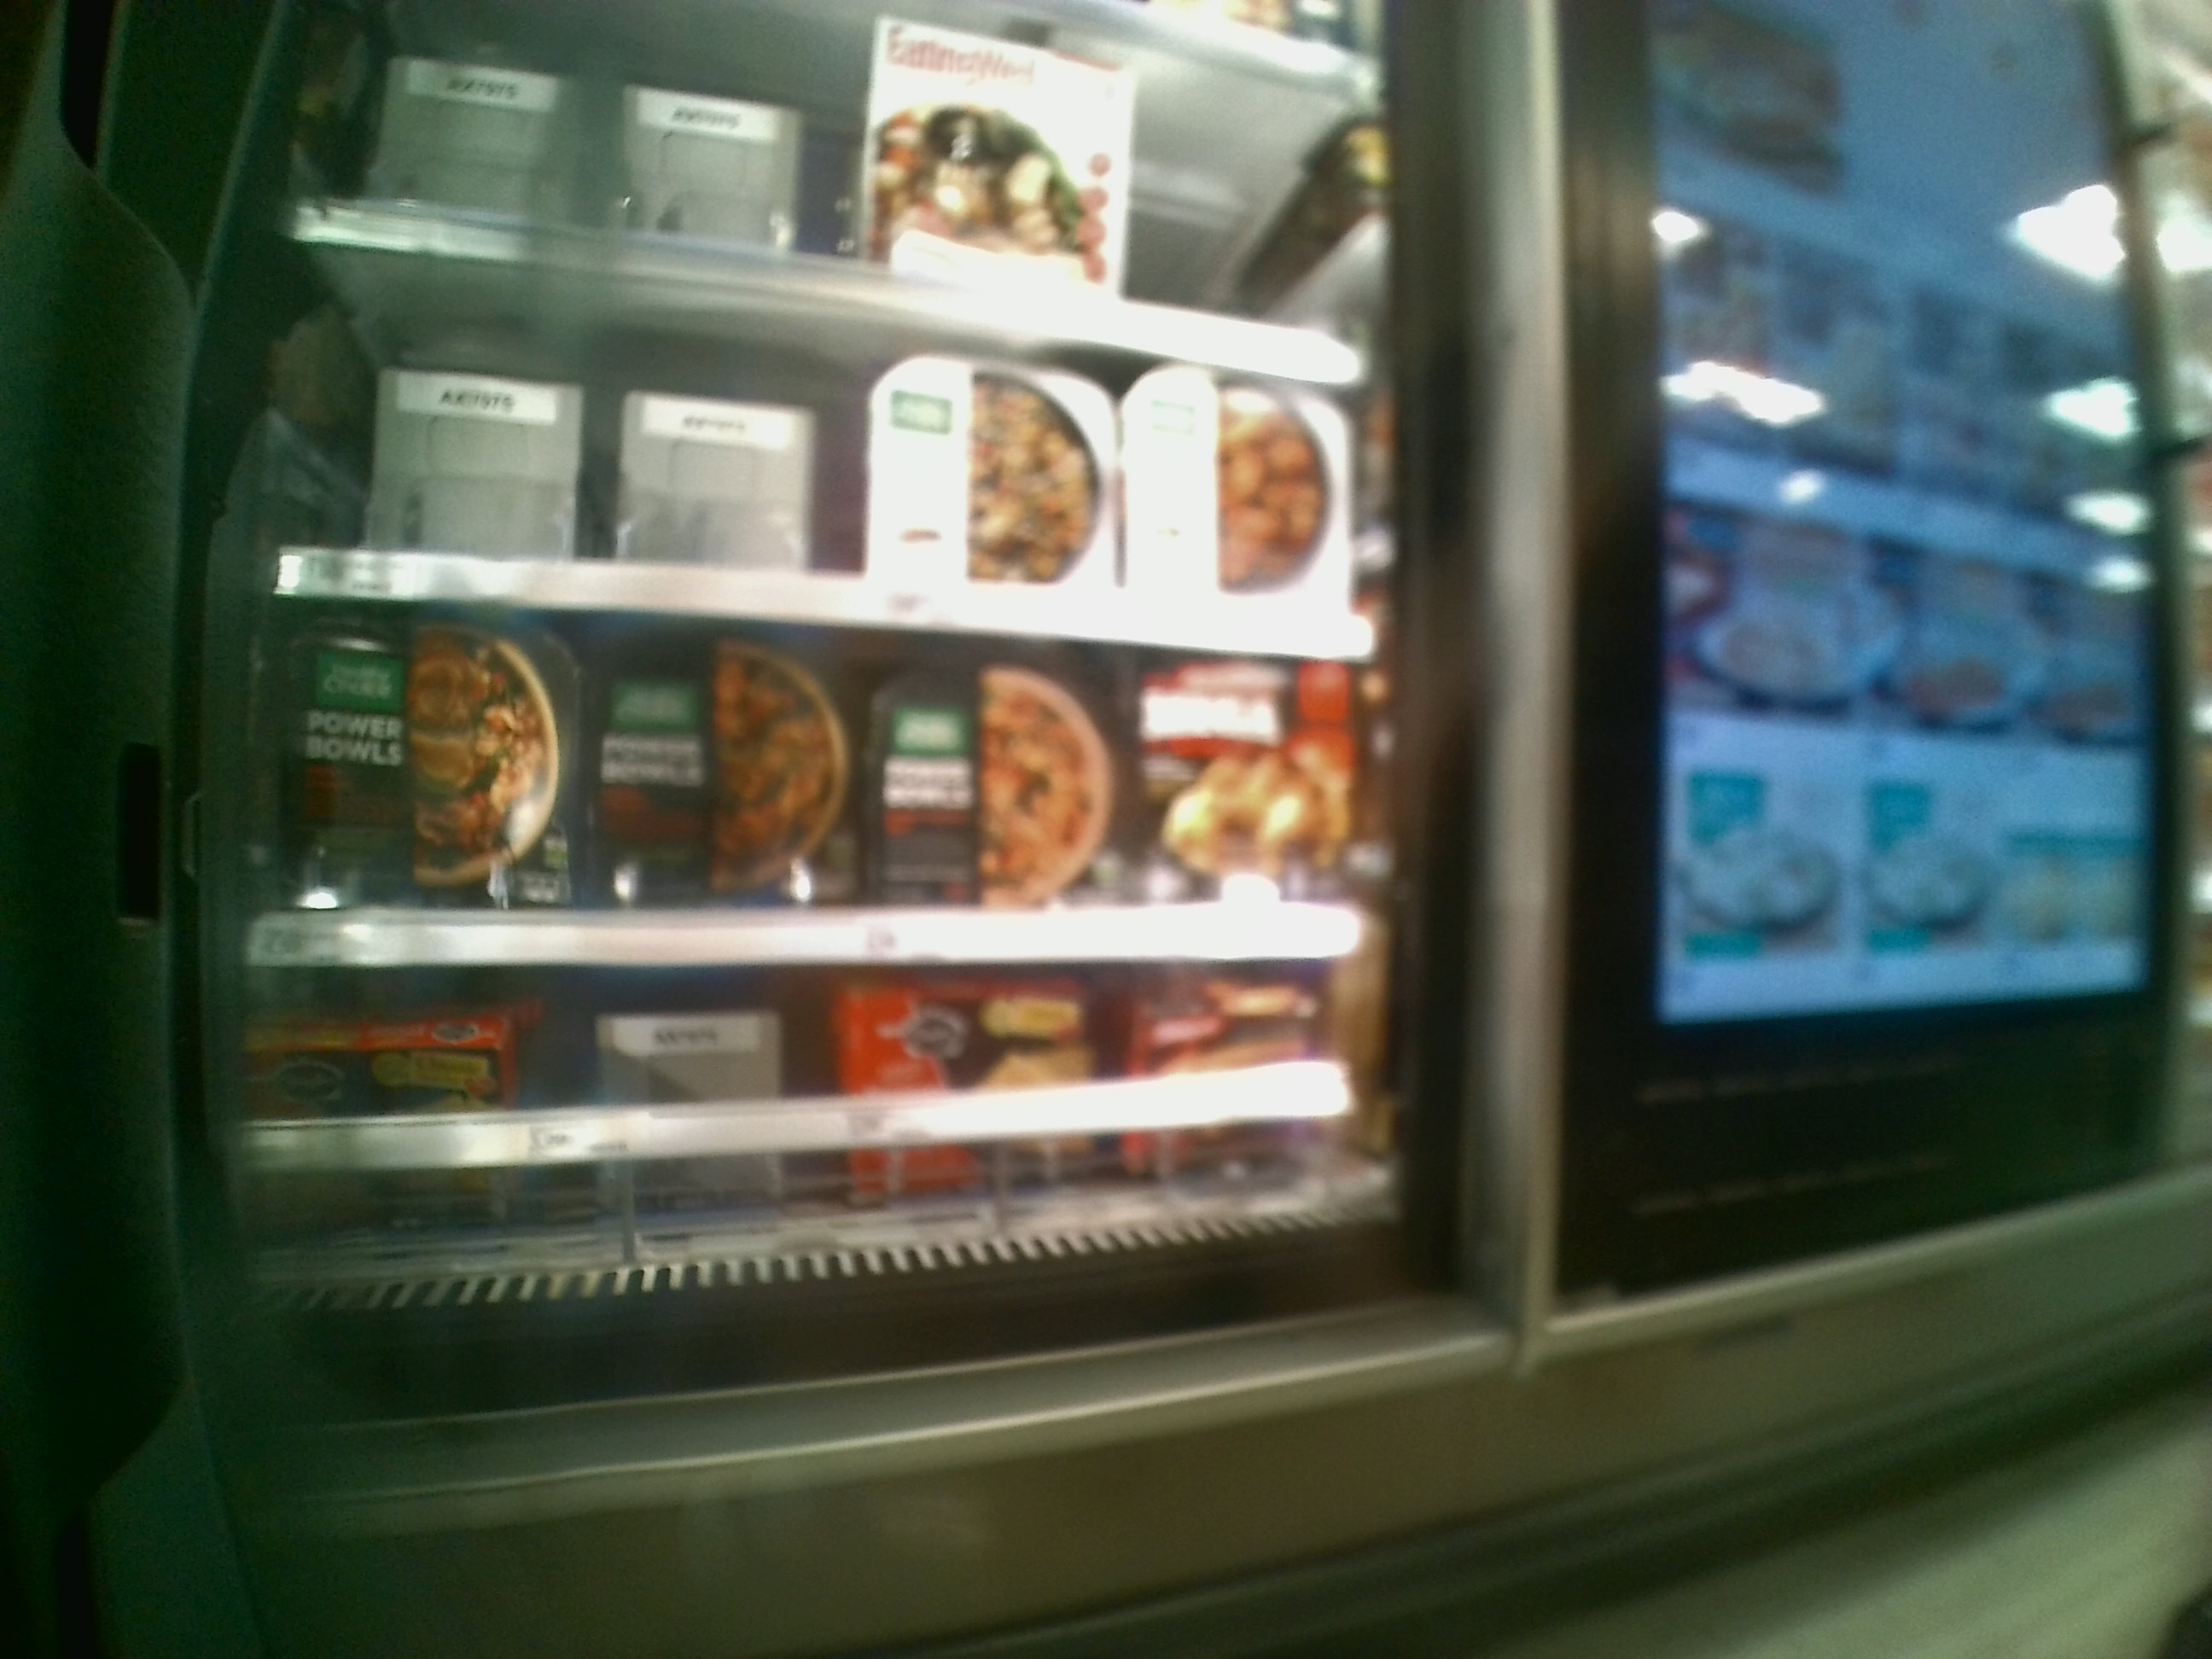shelf: (258, 587, 1371, 969), (218, 958, 1395, 1281)
